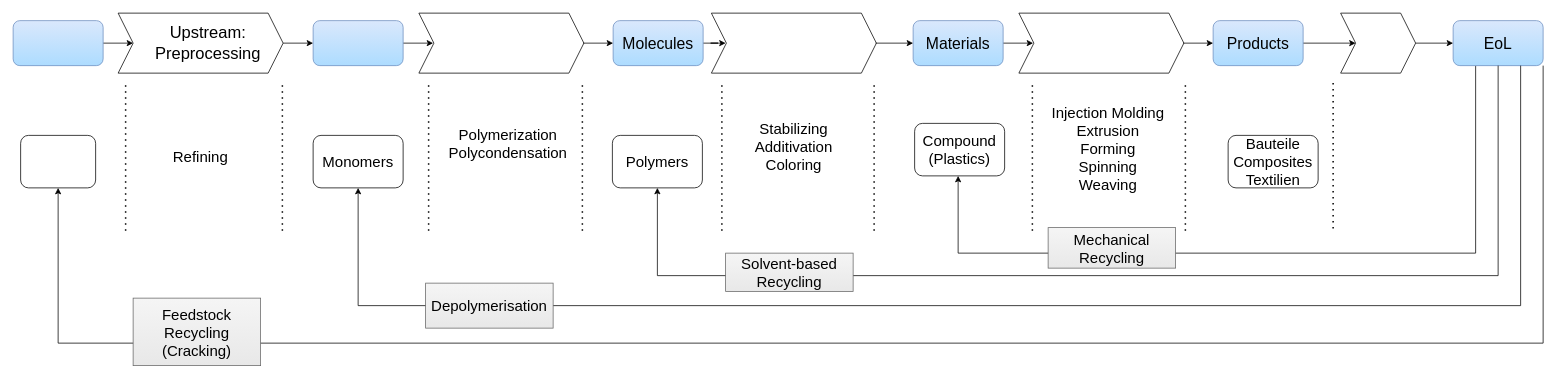
Some shapes in this 1562 by 379 pixel diagram are drawn without their labels. The shapes that lost their labels are listed below. From the top down, each one's centre as x and y in pixels, then its label:
At [57,43]: "Feedstock".
At [357,43]: "Processed Feedstock".
At [501,42]: "Conversions".
At [793,42]: "Downstream: Aufarbeitung".
At [1101,42]: "Manufacturing".
At [1378,42]: "Use".
At [58,161]: "Crude oil".
